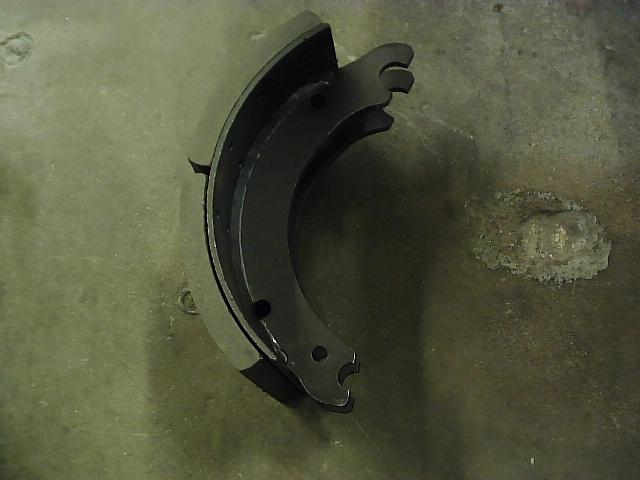brake-shoes: (176, 8, 416, 416)
